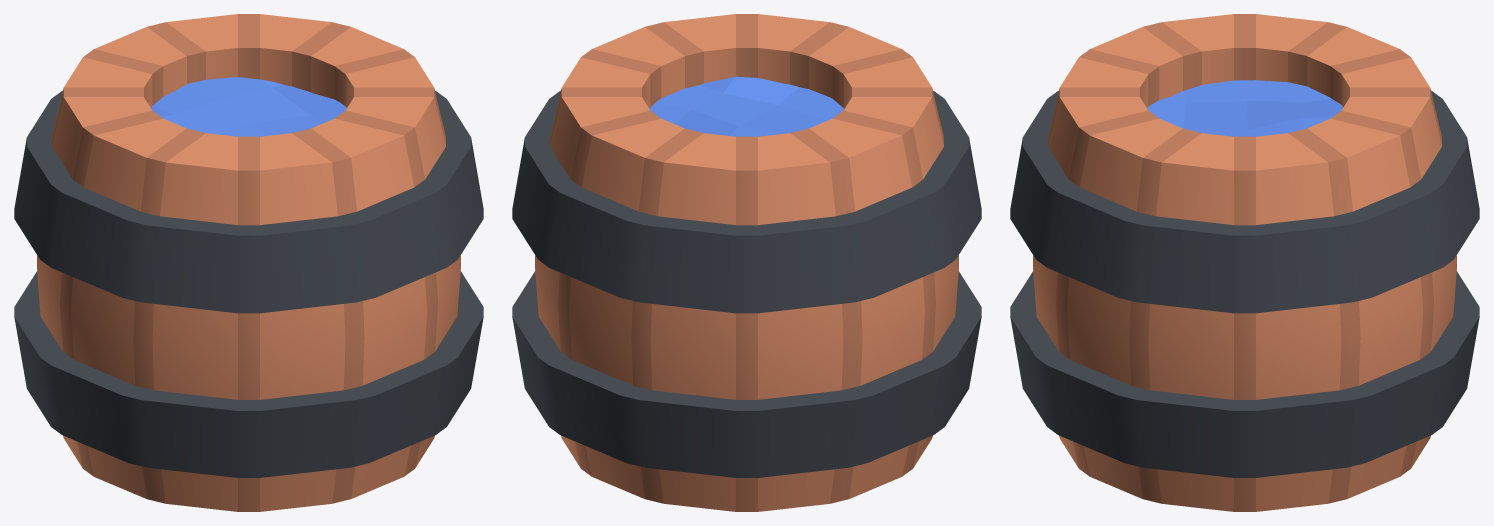
Rendered from Barrel_B.fbx.
The picture shows the model from 3 angles, left to right: view 1: azimuth 30°, elevation 25°; view 2: azimuth 150°, elevation 25°; view 3: azimuth 270°, elevation 25°; orthographic projection.
Parts seen in each view (by area): view 1: Barrel_B; view 2: Barrel_B; view 3: Barrel_B.
Boxes of the visible parts, <box> form: Barrel_B: <box>14,14,483,511</box>; Barrel_B: <box>512,14,981,511</box>; Barrel_B: <box>1010,14,1479,511</box>.
Size of the model in its own units: 180 by 144 by 180.
